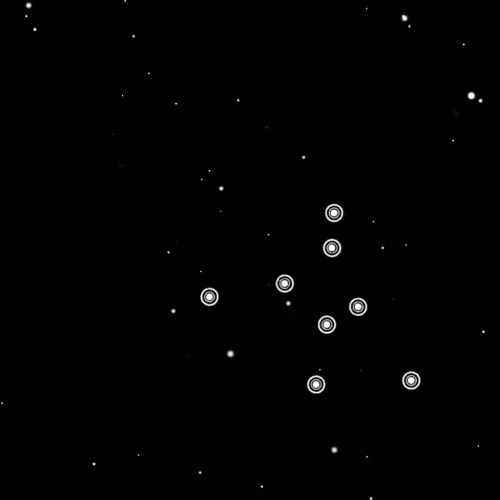hercules: (196, 195, 427, 401)
